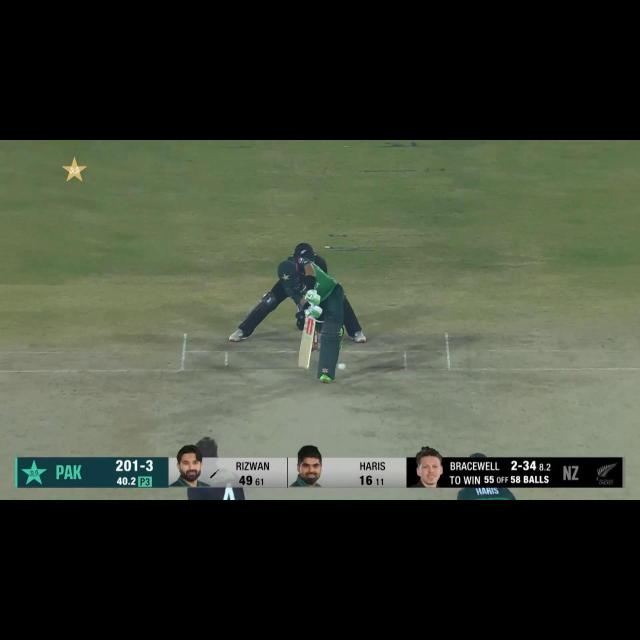bat: (296, 317, 318, 369)
toe: (296, 359, 311, 369)
